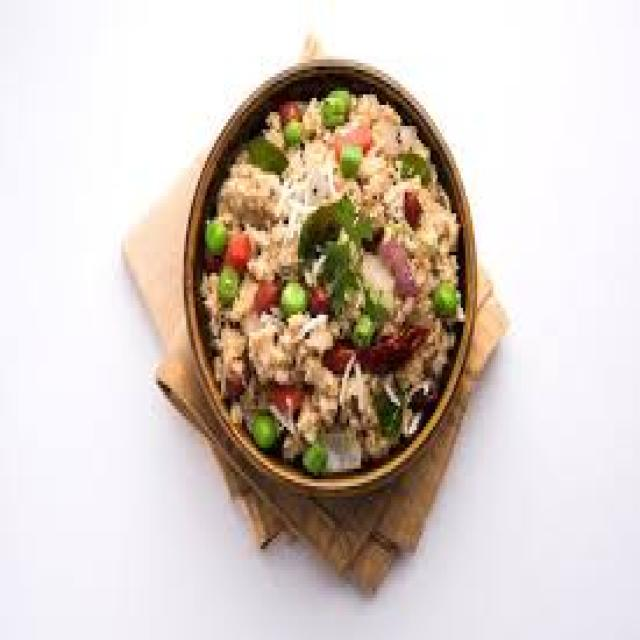UPMA: (199, 81, 451, 466)
